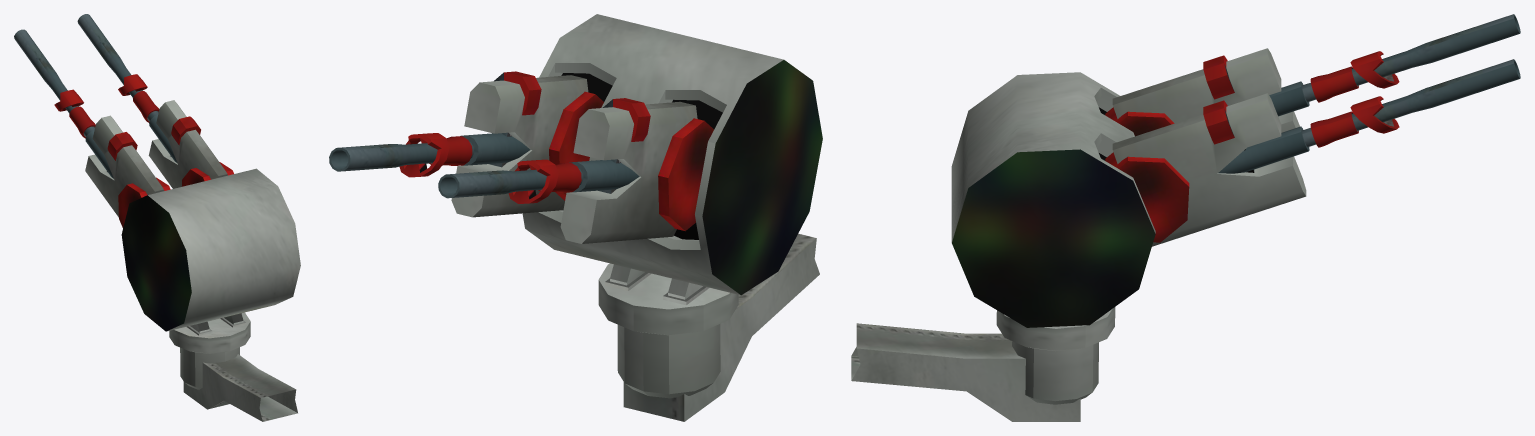
Rendered from Gun_Base_Textured.fbx.
The picture shows the model from 3 angles, left to right: view 1: azimuth 30°, elevation 25°; view 2: azimuth 150°, elevation 25°; view 3: azimuth 270°, elevation 25°; orthographic projection. The views are drawn at different scales.
Parts seen in each view (by area): view 1: Gun_Head, Gun_Base, Gun_BarrelL, Gun_BarrelR, Gun_L_Single, Gun_R_Single; view 2: Gun_Head, Gun_Base, Gun_BarrelL, Gun_BarrelR, Gun_R_Single, Gun_L_Single; view 3: Gun_Head, Gun_Base, Gun_BarrelR, Gun_BarrelL, Gun_R_Single, Gun_L_Single.
Part boxes in pixels (left/top/right/bottom): Gun_Head: left=121, top=168, right=300, bottom=331; Gun_Base: left=169, top=312, right=297, bottom=421; Gun_BarrelL: left=85, top=115, right=170, bottom=227; Gun_BarrelR: left=148, top=100, right=233, bottom=188; Gun_L_Single: left=14, top=29, right=113, bottom=178; Gun_R_Single: left=77, top=14, right=177, bottom=162; Gun_Head: left=522, top=14, right=822, bottom=295; Gun_Base: left=598, top=233, right=819, bottom=421; Gun_BarrelL: left=560, top=98, right=713, bottom=243; Gun_BarrelR: left=451, top=71, right=603, bottom=217; Gun_R_Single: left=329, top=133, right=529, bottom=177; Gun_L_Single: left=438, top=159, right=639, bottom=203; Gun_Head: left=951, top=72, right=1155, bottom=327; Gun_Base: left=851, top=307, right=1115, bottom=421; Gun_BarrelR: left=1105, top=93, right=1306, bottom=246; Gun_BarrelL: left=1105, top=48, right=1299, bottom=136; Gun_R_Single: left=1218, top=59, right=1520, bottom=173; Gun_L_Single: left=1269, top=14, right=1520, bottom=116.
Bounding box in the file's own units: 48.53 × 97.99 × 160.
1 material, 1 textured.
